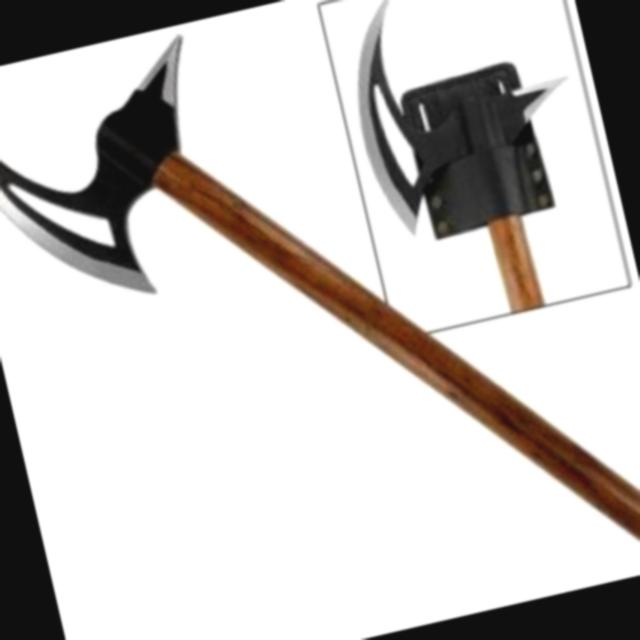ax: (0, 0, 640, 640), (315, 0, 625, 341)
